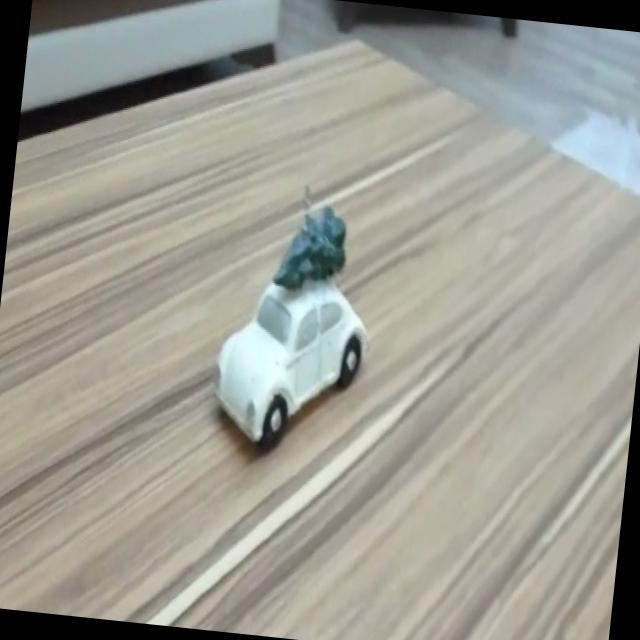car: (208, 274, 374, 446)
